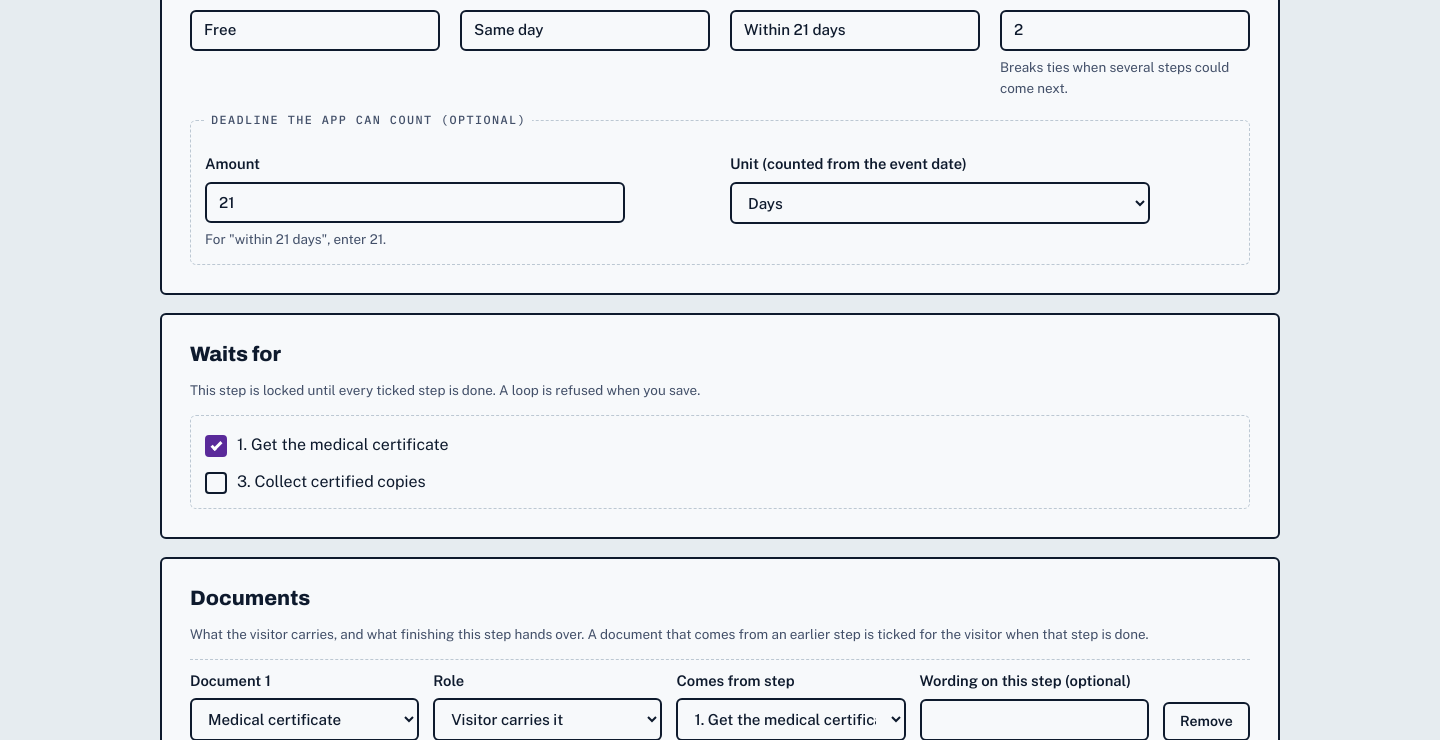
Test: Admin: the step editor › explains a document that can never be held
(page scrolled)
Click the checkbox labelled "1. Get the medical certificate" at (216, 446), box top-left (205, 435), bottom-right (227, 457)
(page scrolled)
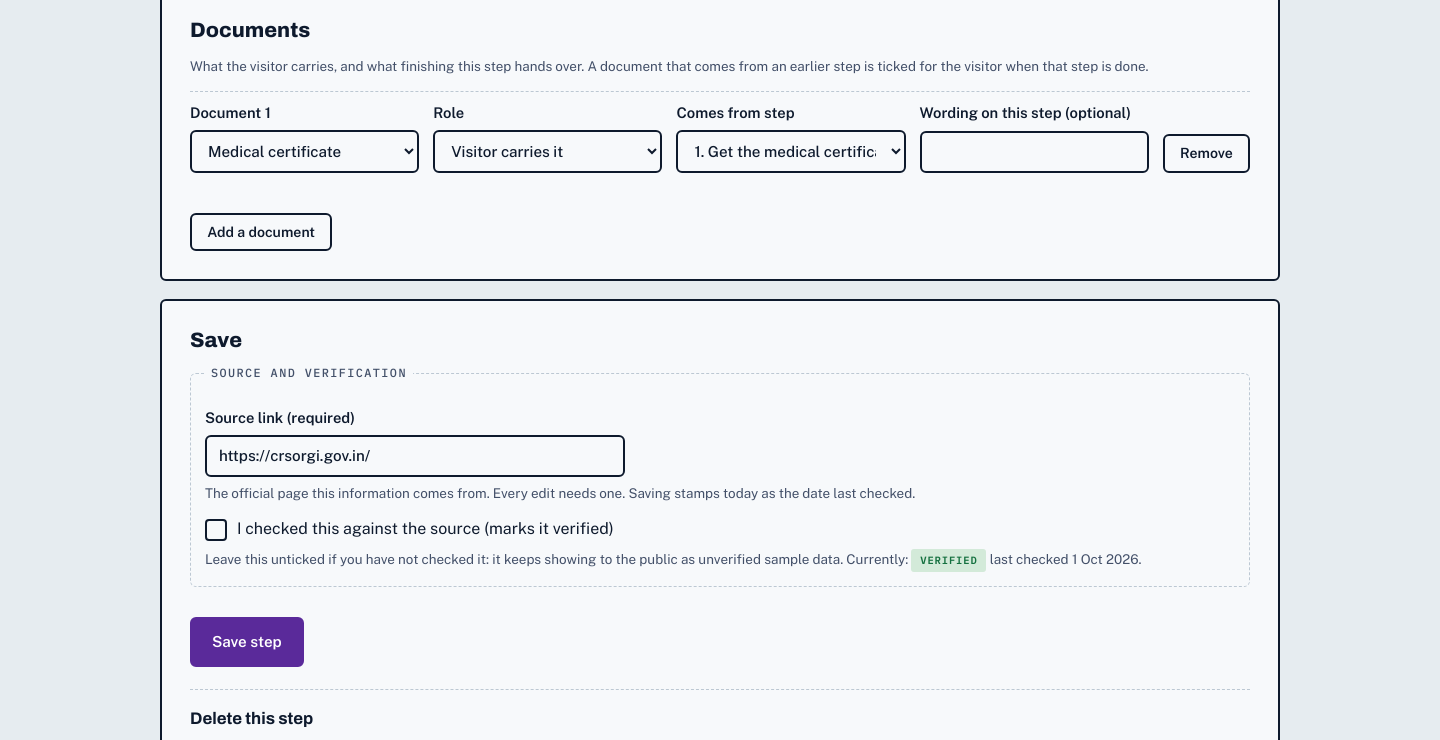
Click the button "Save step" at (247, 642), box top-left (190, 617), bottom-right (304, 666)
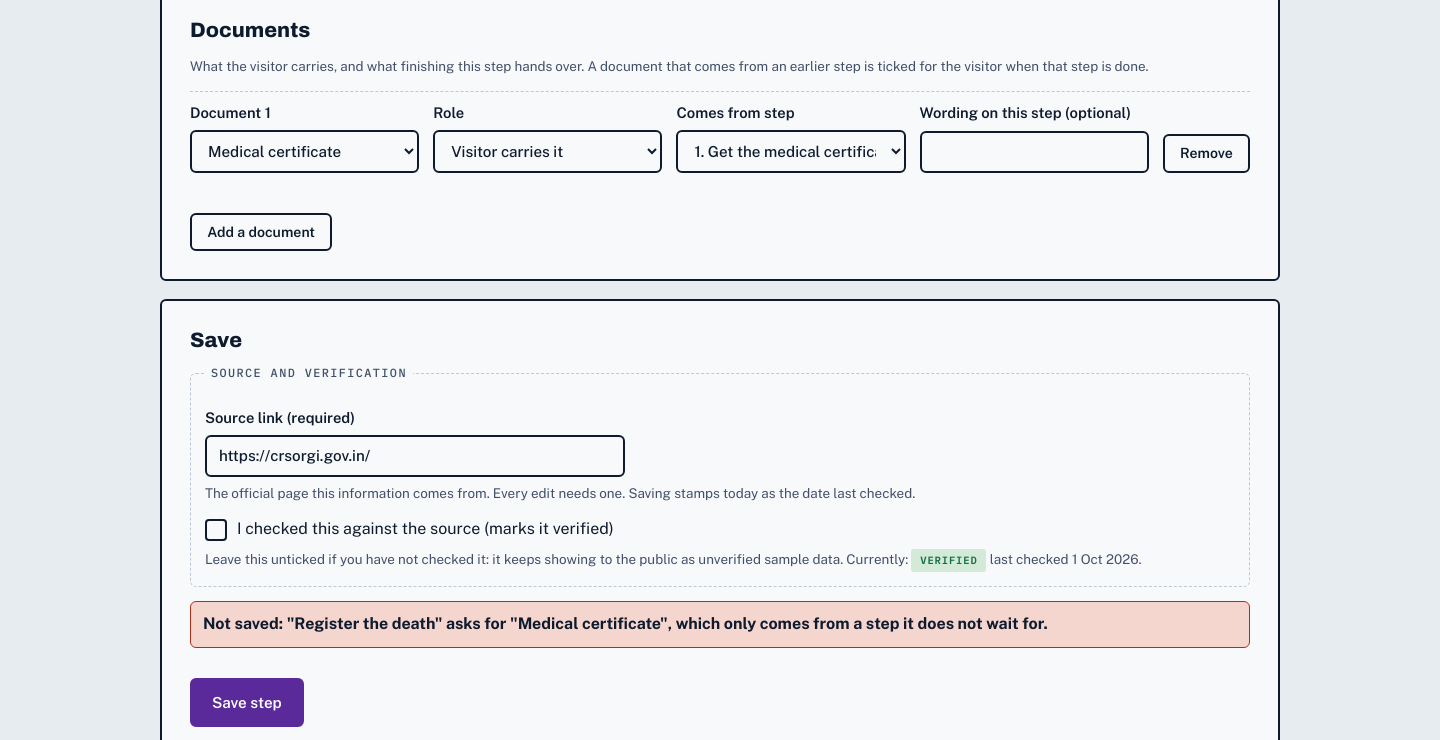
Expected: the message shows "only comes from a step it does not wait for", top-left (203, 614), bottom-right (1048, 633)
